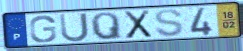4: (189, 6, 215, 37)
G: (28, 14, 58, 44)
Q: (90, 11, 124, 41)
S: (153, 8, 185, 38)
U: (58, 12, 91, 43)
X: (122, 9, 154, 40)
